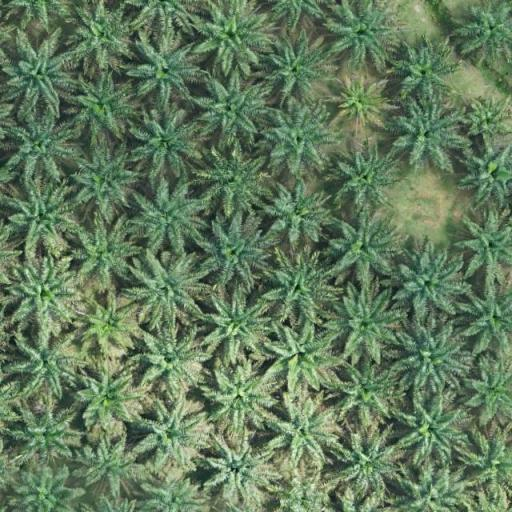Ganoderma: (342, 79, 379, 116)
